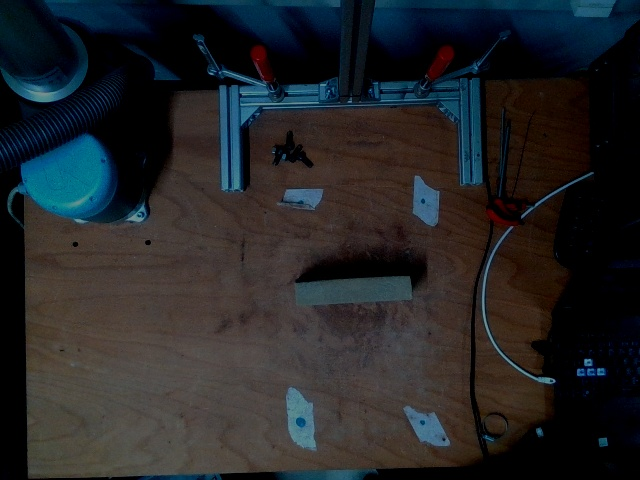brick-side: (298, 279, 411, 305)
